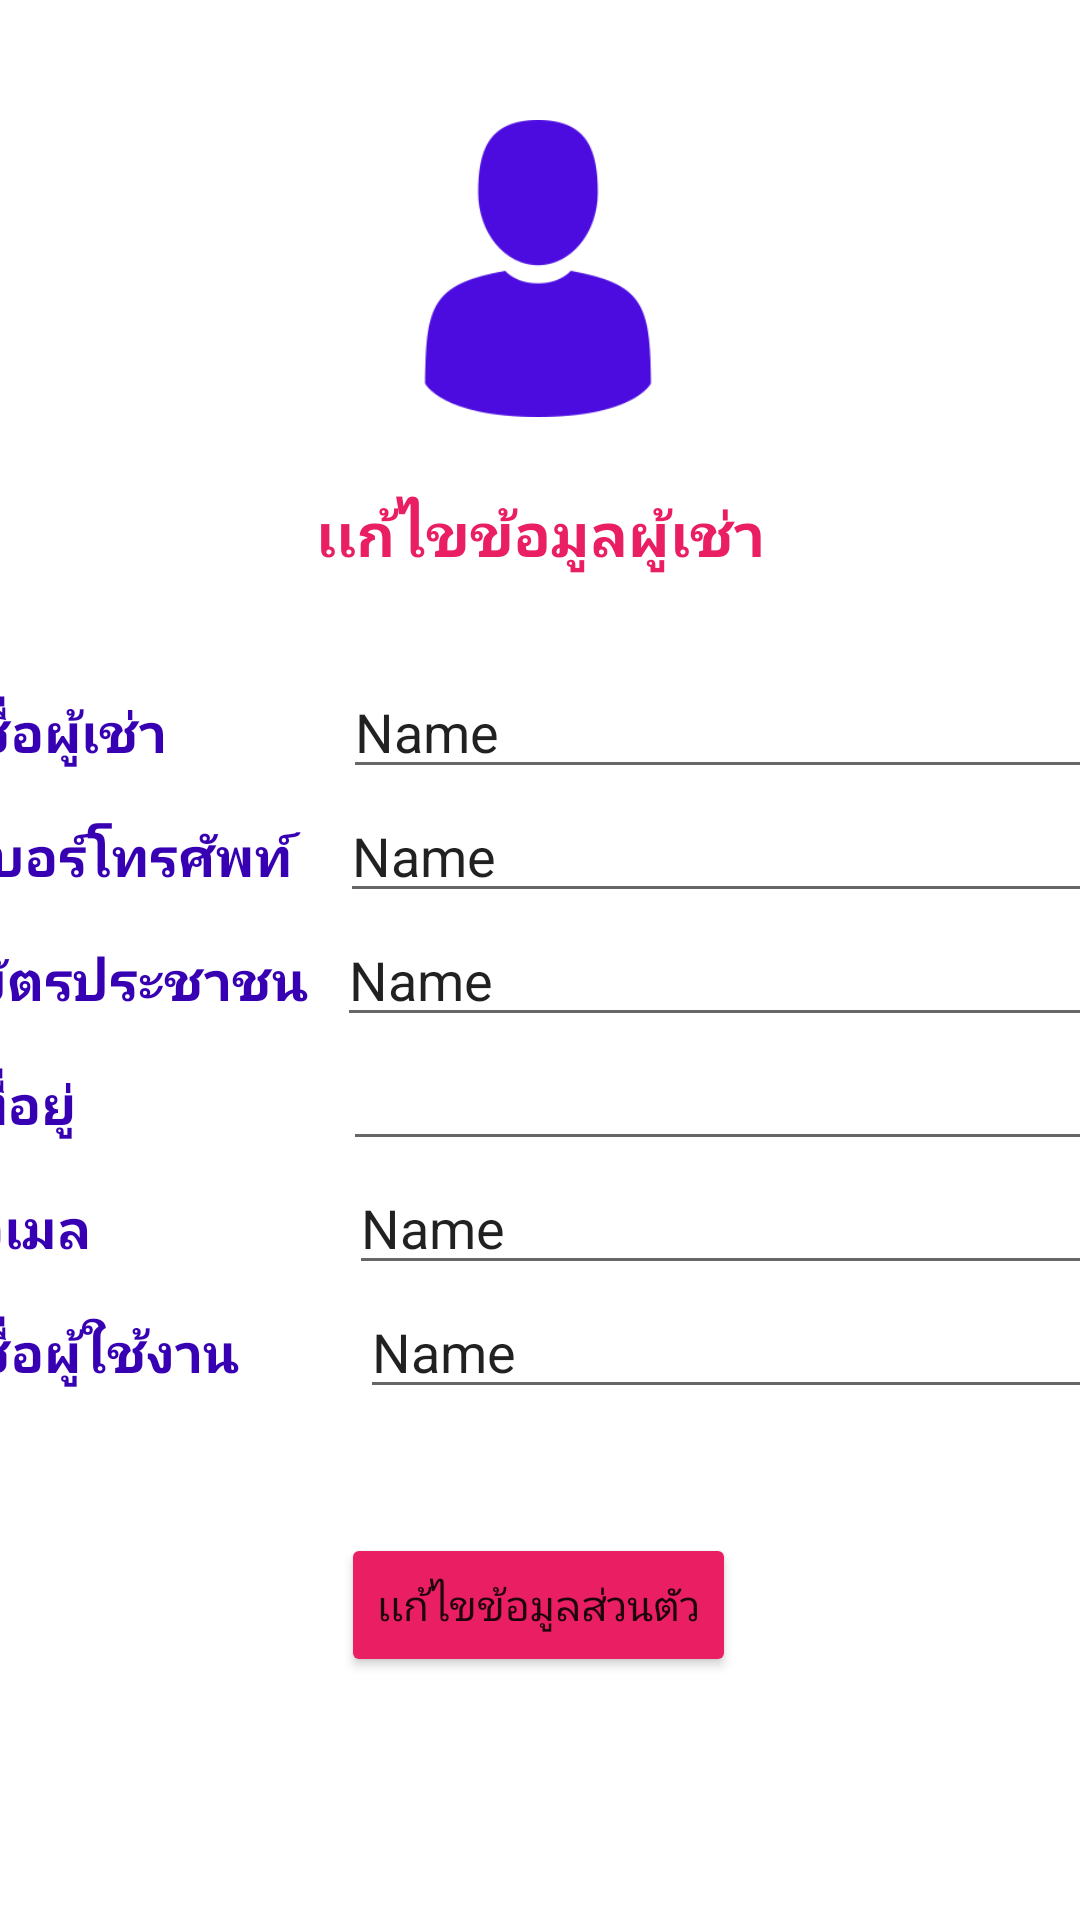

Icon click points for this 1080×1920 phone screenshot, format (x=x, y=y):
man user: (x=538, y=268)
